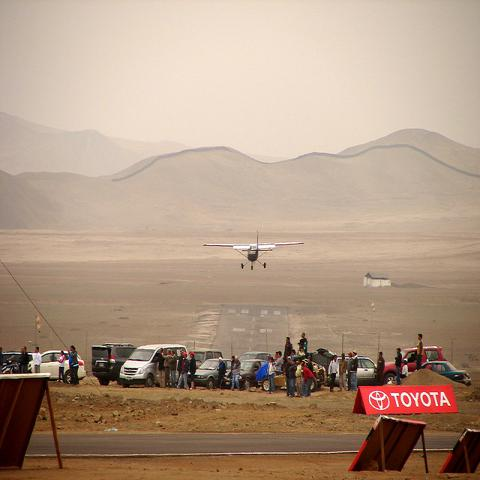car: (119, 342, 188, 389), (382, 345, 446, 385), (92, 342, 138, 388), (28, 350, 88, 382), (334, 354, 378, 388), (422, 360, 472, 386), (309, 346, 336, 389), (237, 358, 270, 391), (186, 358, 220, 390), (191, 349, 224, 369), (1, 352, 33, 365), (238, 352, 272, 361), (222, 360, 233, 377), (157, 365, 159, 375)
truck: (90, 342, 136, 386)
